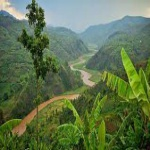River: (12, 91, 65, 139), (63, 46, 100, 101)
